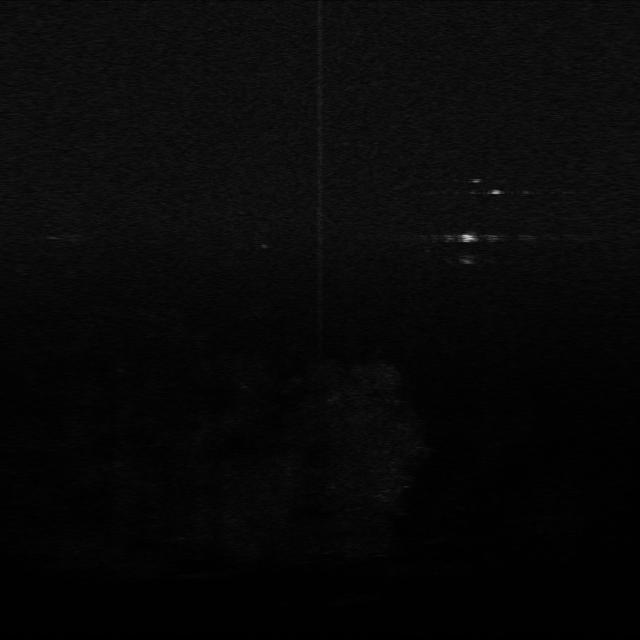rov: (457, 229, 481, 247)
